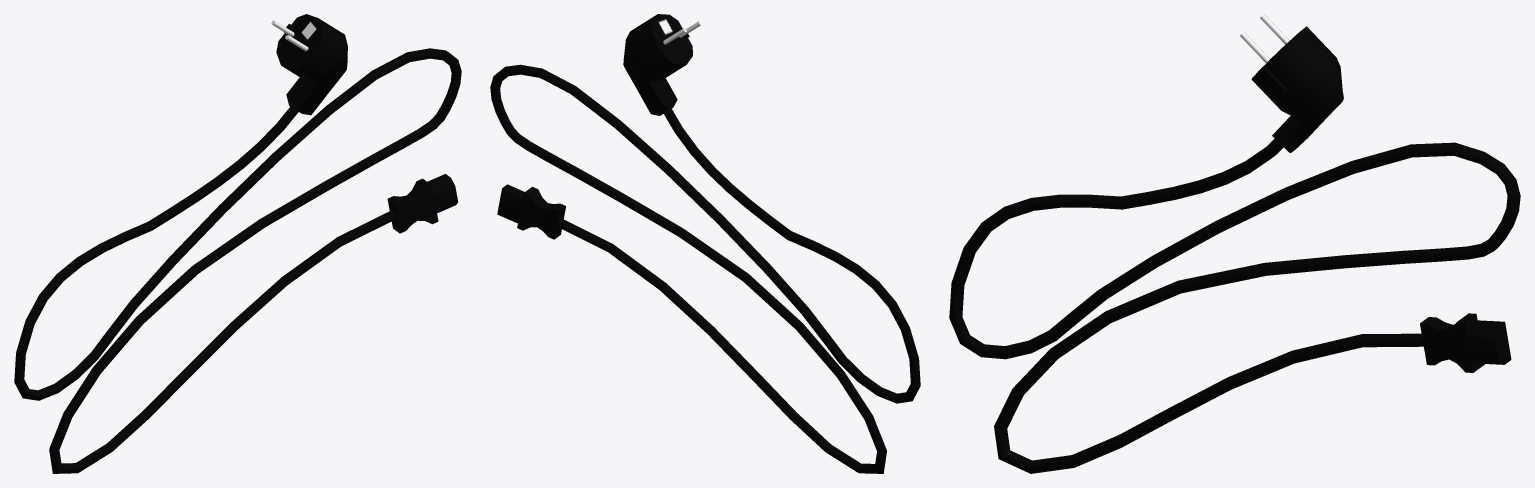
File: pc_cable.glb
3 renders of one model, left to right at view 1: azimuth 30°, elevation 25°; view 2: azimuth 150°, elevation 25°; view 3: azimuth 330°, elevation 25°, orthographic. The views are drawn at different scales.
Visible parts, largest first — view 1: Cylinder001; view 2: Cylinder001; view 3: Cylinder001.
Boxes of the visible parts, x1,y1,x2,y2 form: Cylinder001: (14, 14, 461, 473); Cylinder001: (490, 14, 920, 473); Cylinder001: (949, 14, 1520, 473).
Size of the model in its own units: 3.16 by 2.79 by 0.3837.
Materials: 1 (1 with a texture image).
